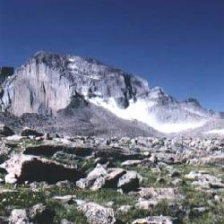neutral: (1, 10, 223, 220)
